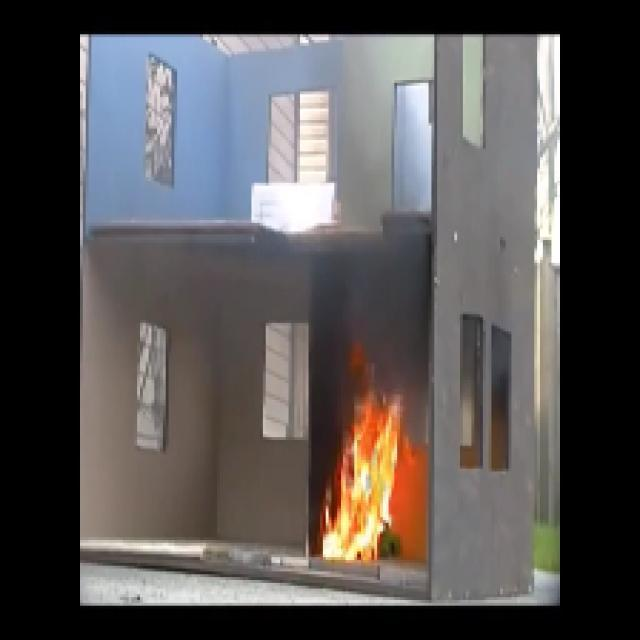Fire: (331, 387, 396, 562)
Smoke: (324, 247, 429, 341)
